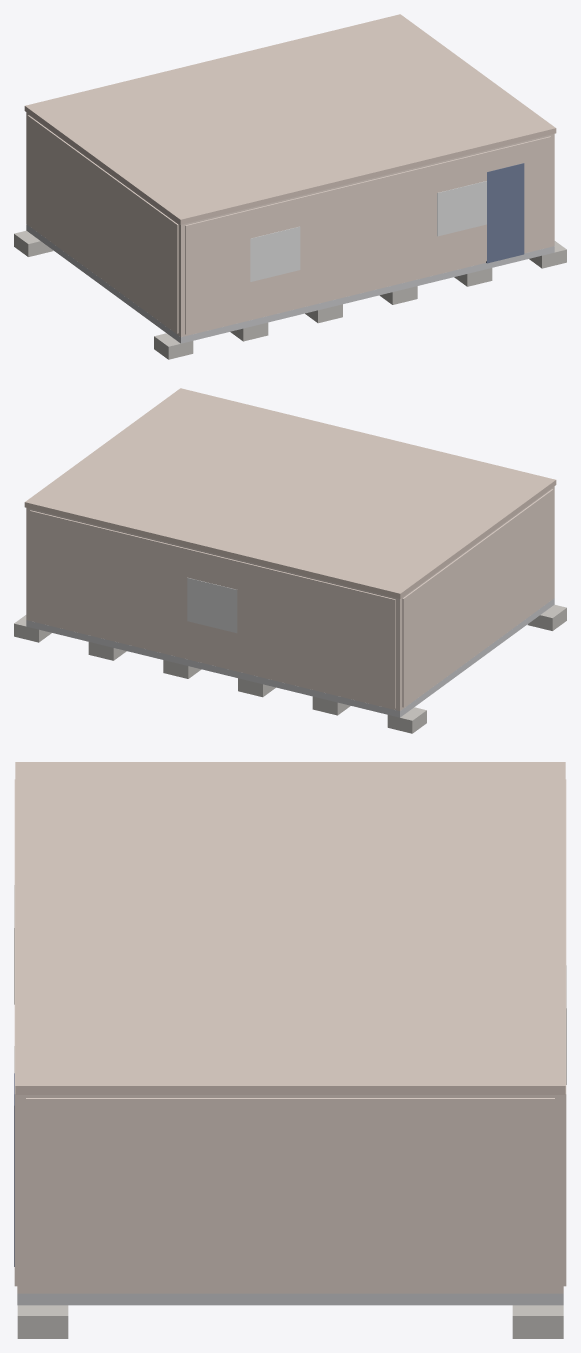
File: Studio-30-Base-Mauve-LOD2.glb
3 renders of one model, top to bottom at view 1: azimuth 30°, elevation 25°; view 2: azimuth 150°, elevation 25°; view 3: azimuth 270°, elevation 25°, orthographic. The views are drawn at different scales.
Visible parts, largest first — view 1: RoofMain, ExteriorPanelsStandard, WindowsStandard, BaseFrame, FoundationBlocks, ExteriorShell, EntryDoor; view 2: RoofMain, ExteriorPanelsStandard, BaseFrame, ExteriorShell, FoundationBlocks, WindowsStandard; view 3: RoofMain, ExteriorPanelsStandard, BaseFrame, ExteriorShell, FoundationBlocks.
Boxes of the visible parts, x1,y1,x2,y2 form: RoofMain: (24,14,556,224); ExteriorPanelsStandard: (27,115,550,334); WindowsStandard: (250,181,486,281); BaseFrame: (26,224,554,343); FoundationBlocks: (14,230,566,359); ExteriorShell: (26,112,554,336); EntryDoor: (486,163,524,263); RoofMain: (24,388,556,598); ExteriorPanelsStandard: (30,489,553,708); BaseFrame: (26,598,554,717); ExteriorShell: (26,486,554,710); FoundationBlocks: (14,604,566,733); WindowsStandard: (187,577,237,633); RoofMain: (15,762,565,1094); ExteriorPanelsStandard: (14,779,566,1290); BaseFrame: (17,1293,563,1305); ExteriorShell: (17,1095,563,1293); FoundationBlocks: (17,1305,563,1338).
Size of the model in its own units: 9.6 by 3.17 by 6.53.
